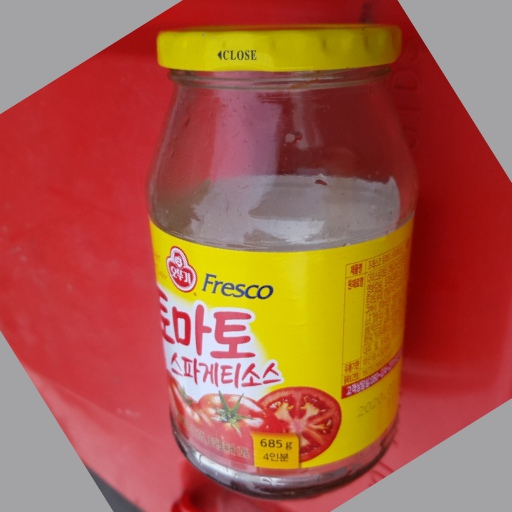Glass_5: (140, 19, 412, 494)
